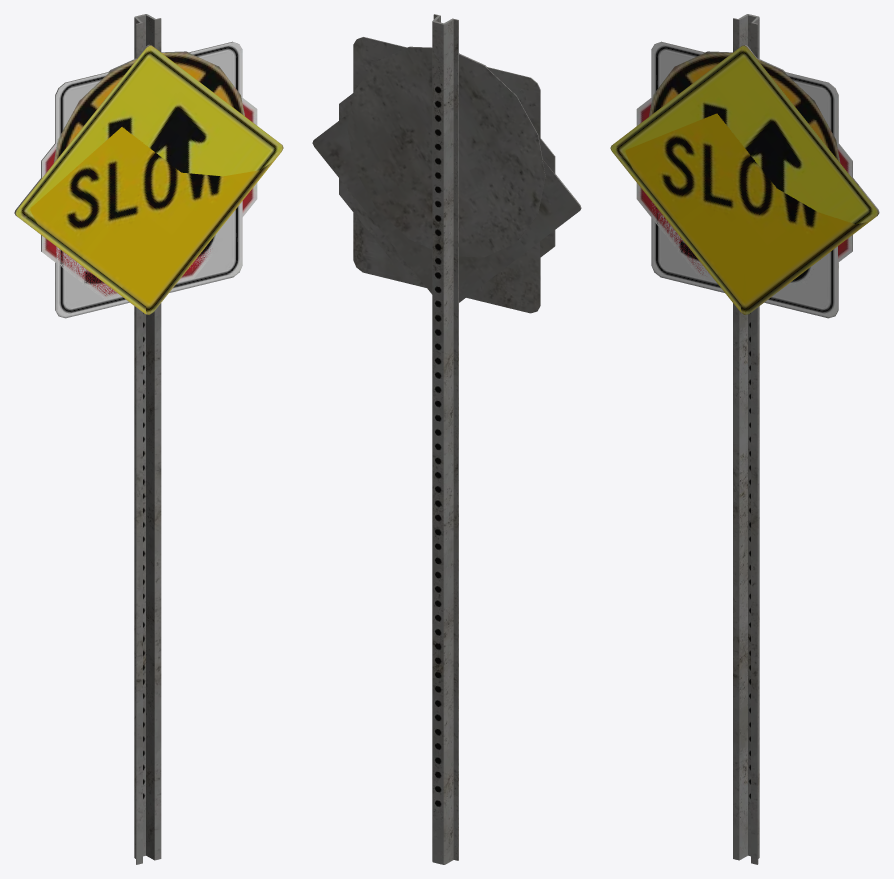
Rendered from road-signs.glb.
3 views of the same model, side by side, from view 1: azimuth 30°, elevation 25°; view 2: azimuth 150°, elevation 25°; view 3: azimuth 330°, elevation 25° (orthographic).
Parts seen in each view (by area): view 1: Slow_down_Sign, object 15, object 12, object 11, object 2, object 7, object 14, Stop_Sign, object 10; view 2: object 7, object 10, Slow_down_Sign, object 11, Stop_Sign, object 2; view 3: Slow_down_Sign, object 15, object 2, object 12, object 11, object 7, object 14, Stop_Sign.
Boxes of the visible parts, x1,y1,x2,y2 form: Slow_down_Sign: (14, 44, 283, 314); object 15: (16, 46, 282, 313); object 12: (136, 15, 160, 864); object 11: (55, 41, 242, 318); object 2: (134, 14, 161, 864); object 7: (53, 51, 244, 163); object 14: (136, 16, 160, 863); Stop_Sign: (41, 98, 257, 299); object 10: (134, 15, 153, 864); object 7: (347, 46, 545, 257); object 10: (433, 14, 458, 864); Slow_down_Sign: (312, 53, 581, 302); object 11: (353, 37, 540, 313); Stop_Sign: (339, 92, 555, 289); object 2: (432, 14, 458, 861); Slow_down_Sign: (610, 45, 879, 314); object 15: (611, 46, 877, 311); object 2: (733, 14, 759, 864); object 12: (733, 15, 757, 863); object 11: (651, 41, 838, 318); object 7: (648, 51, 840, 162); object 14: (734, 15, 757, 863); Stop_Sign: (636, 97, 852, 279).
Bounding box in the file's own units: 1.5 × 4.5 × 0.0892.
Materials: 1 (1 with a texture image).
